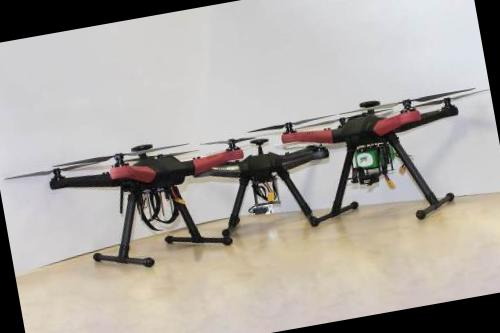drone: (2, 115, 271, 252), (245, 76, 497, 171)
